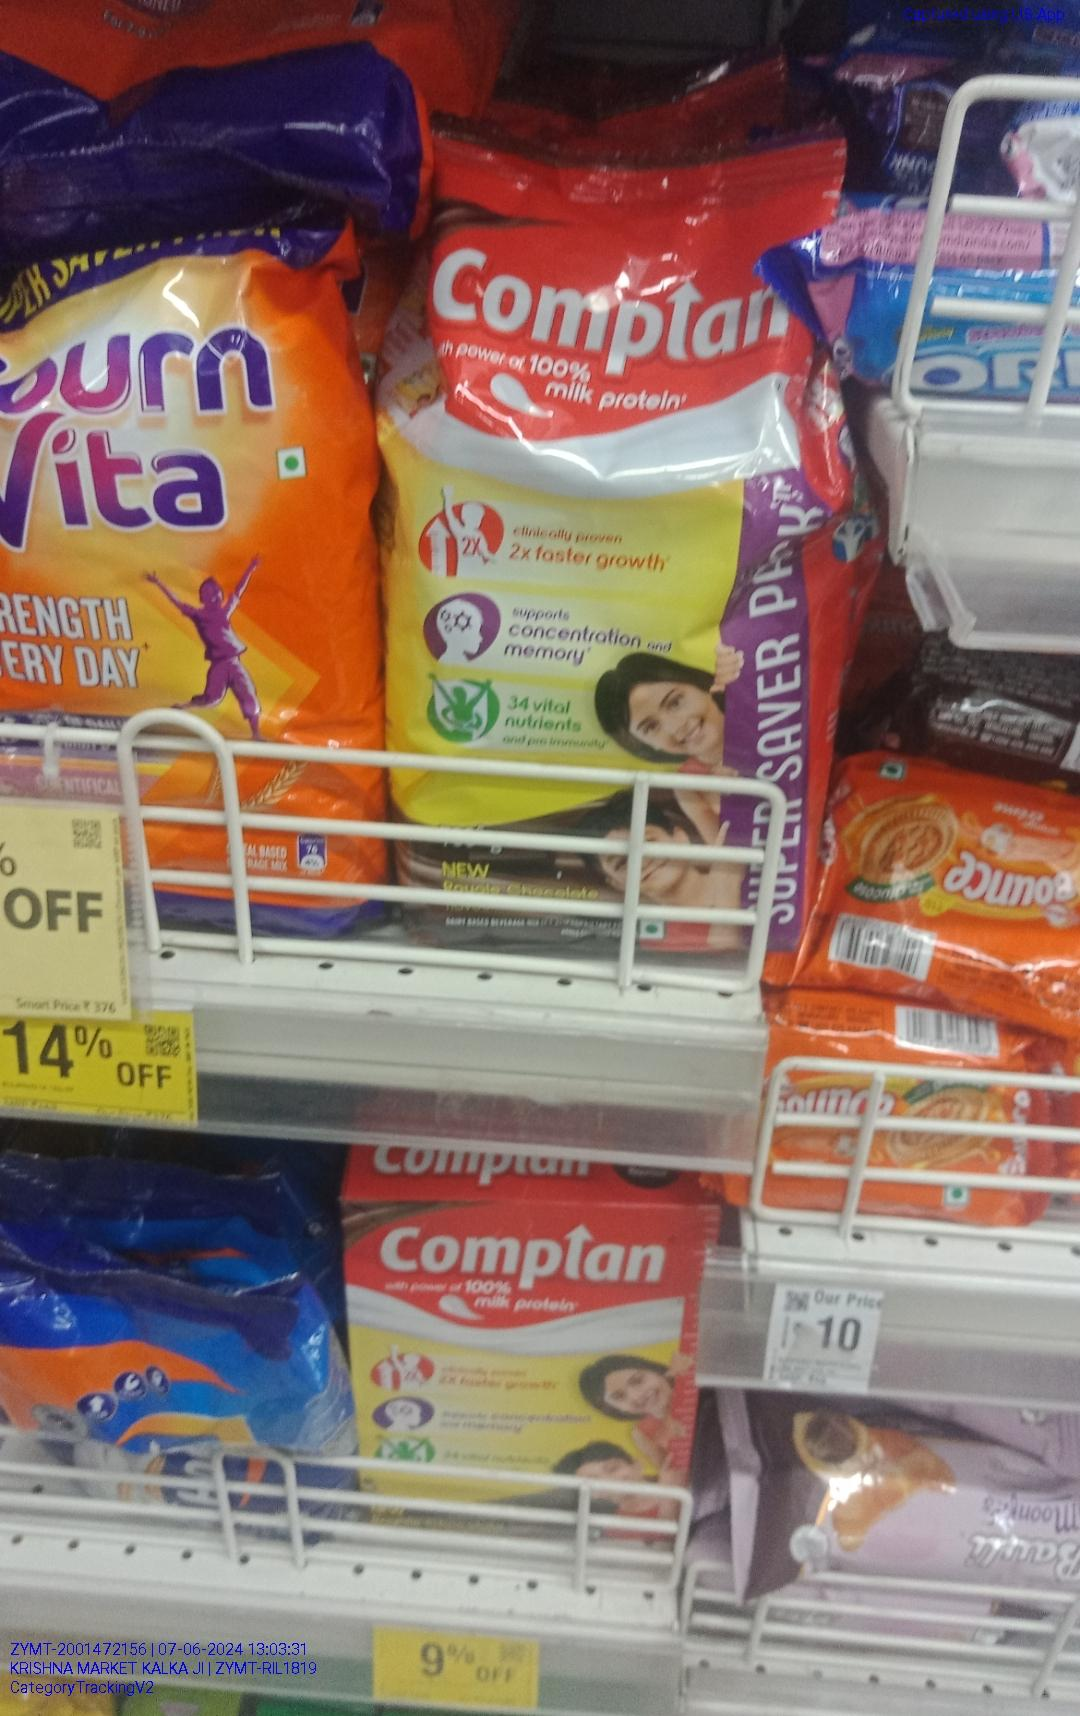BOURN_VITA_1_KG_POUCH: (0, 146, 382, 928)
COMPLAN_CHOCOLATE_500_GMS_PACK: (347, 1191, 701, 1568)
COMPLAN_RC_POUCH_700_GMS_12: (389, 170, 832, 951)
